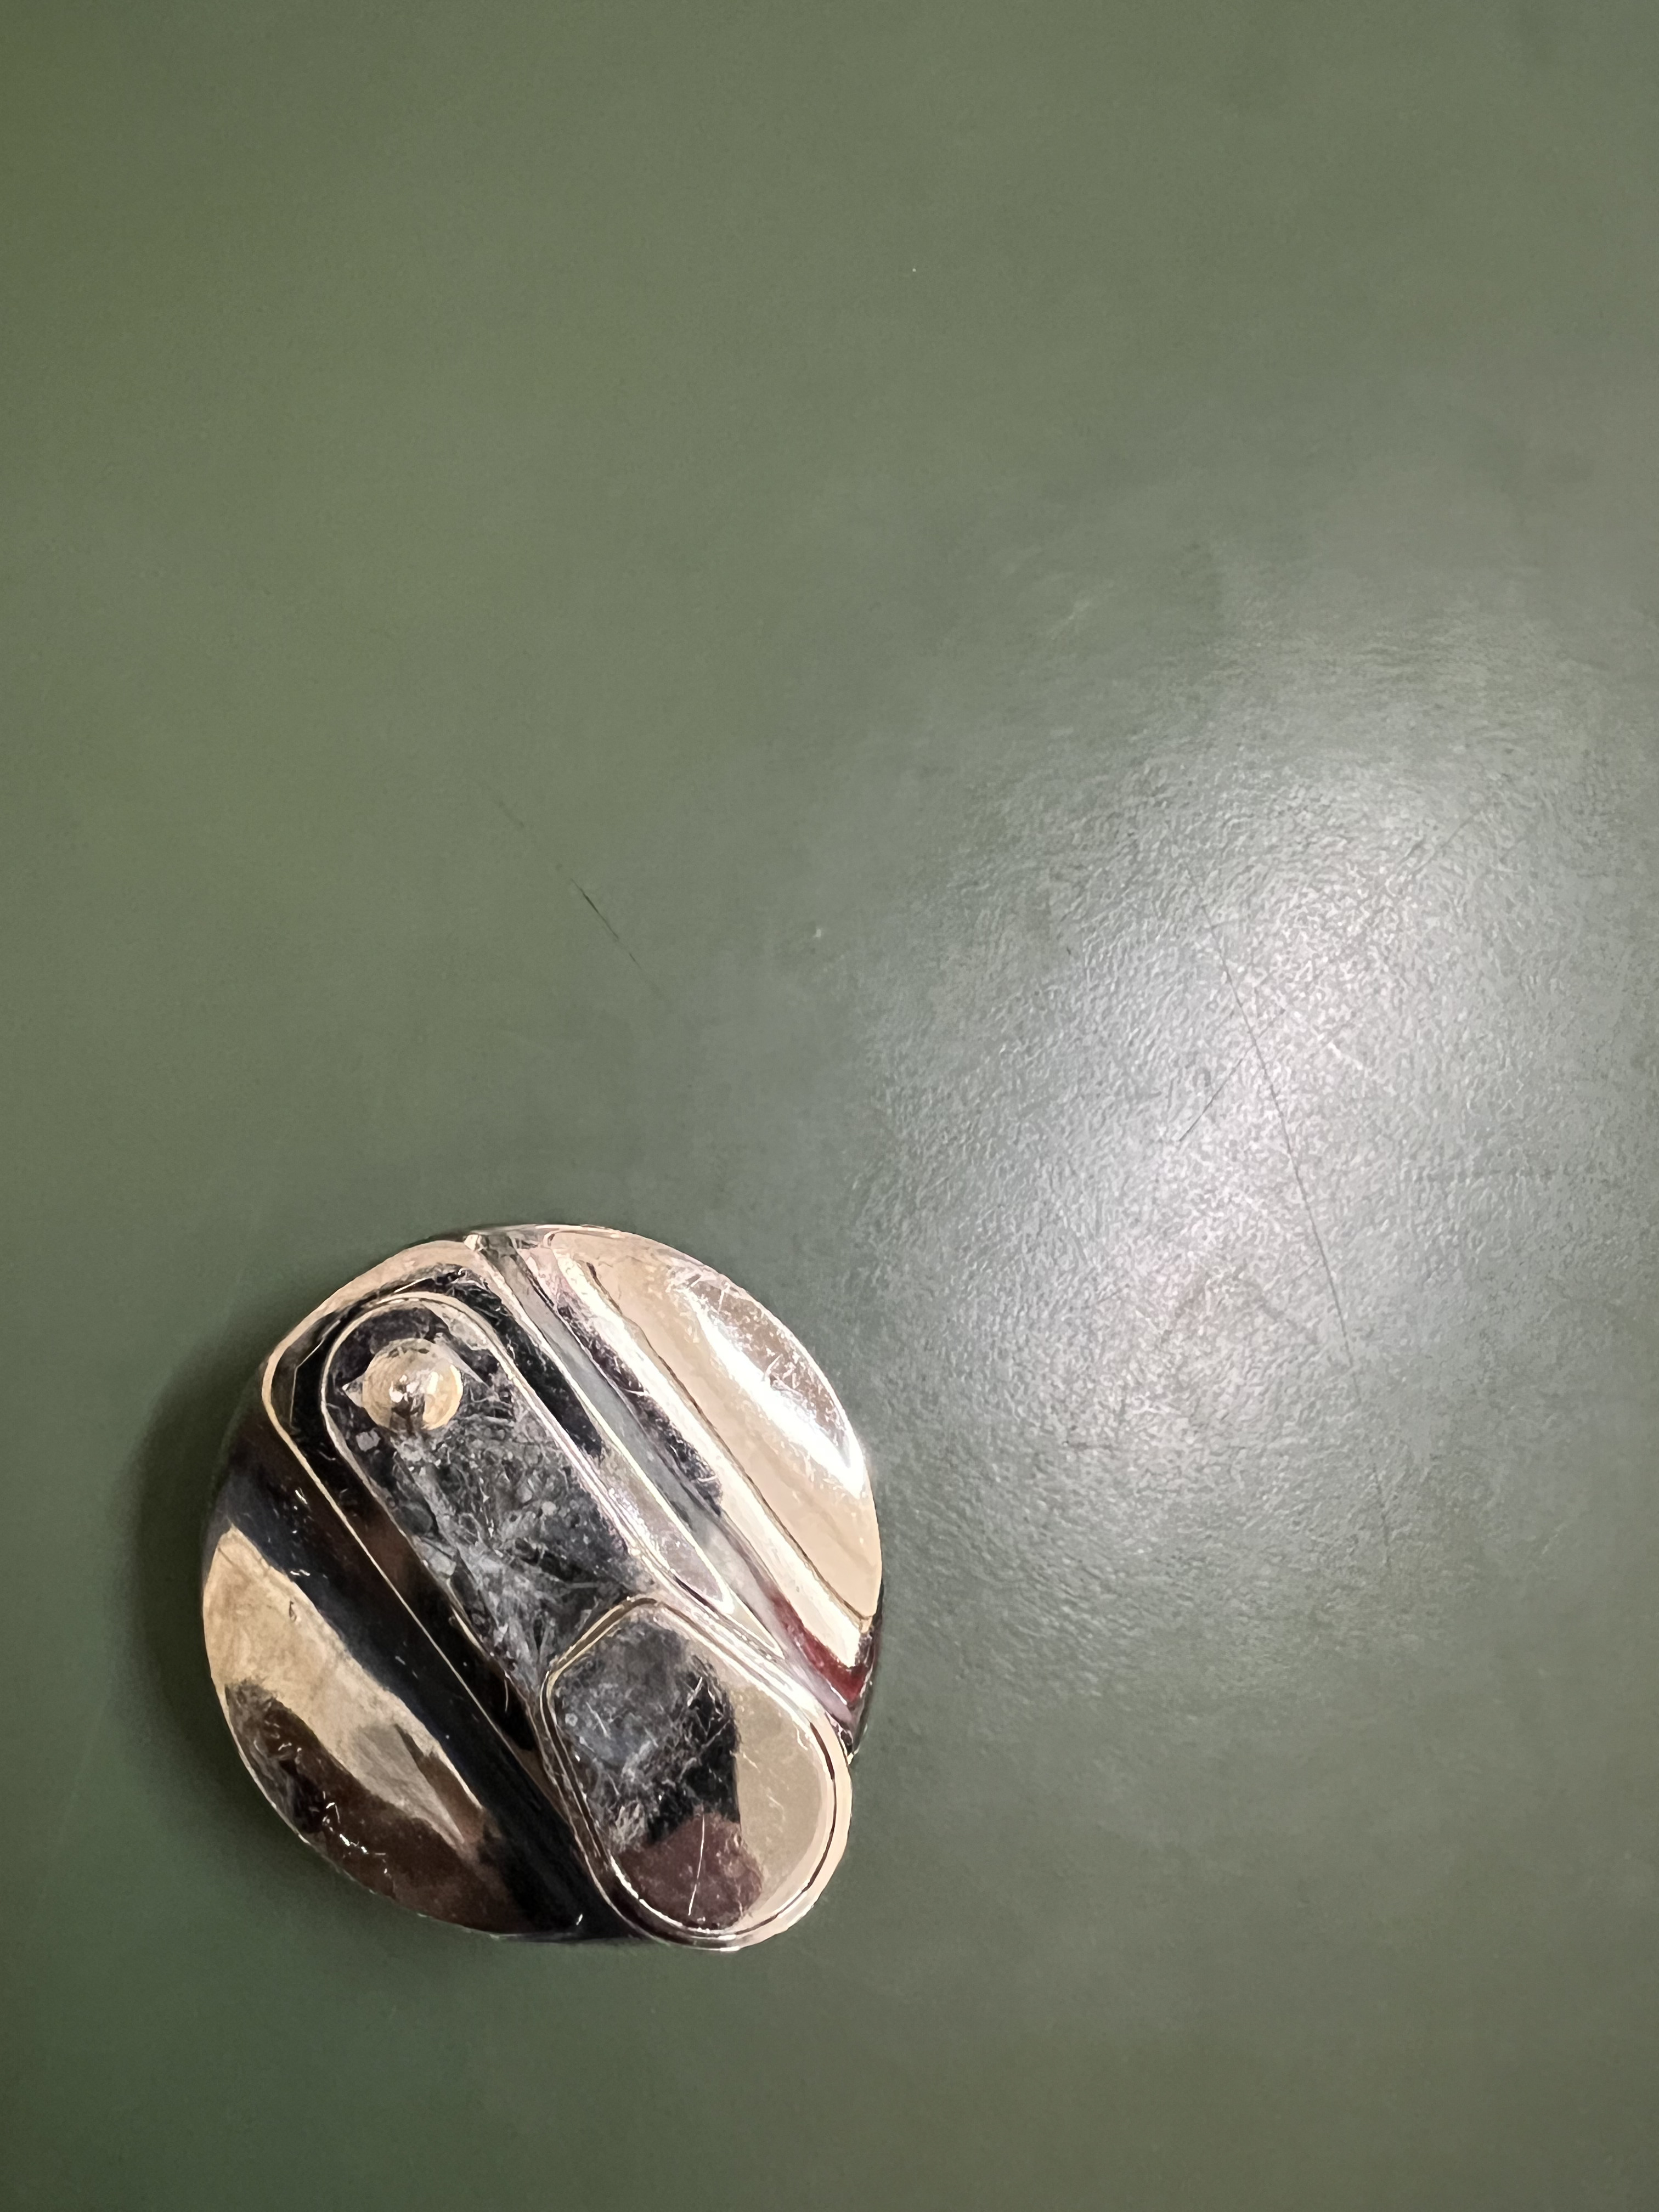regulator: (202, 1184, 911, 2012)
